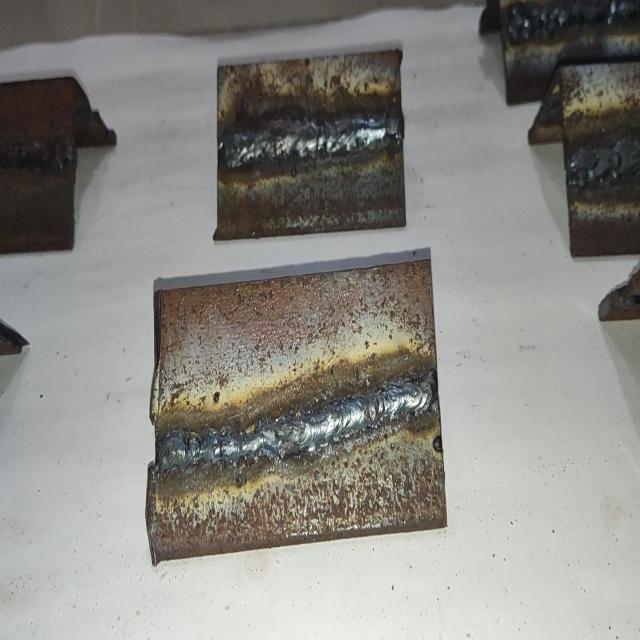Defect: (161, 420, 296, 470), (506, 0, 640, 42), (0, 138, 76, 175)
Welding Line: (158, 375, 434, 477), (222, 108, 400, 168), (504, 0, 640, 43), (567, 135, 640, 184), (0, 136, 72, 170)
Workpiece: (146, 256, 452, 544), (213, 48, 409, 238), (555, 60, 640, 261), (497, 0, 640, 112), (0, 71, 79, 252)
